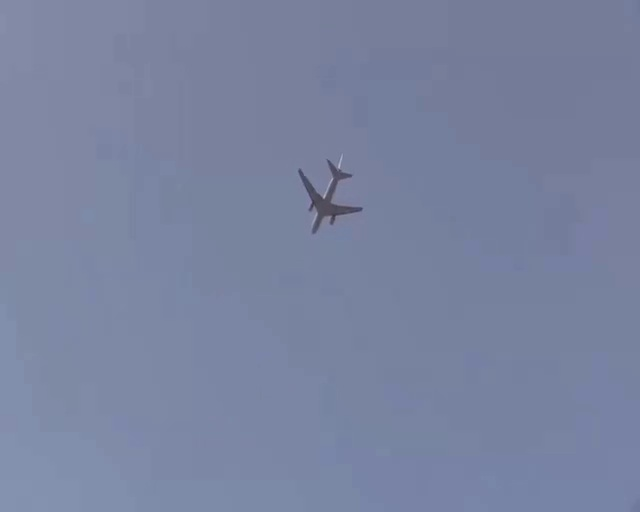AIRPLANE: (298, 154, 363, 234)
